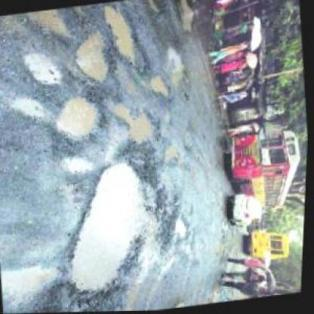Hueco: (60, 157, 162, 297), (98, 0, 153, 78), (1, 260, 68, 306), (111, 100, 163, 151), (56, 95, 107, 144), (72, 30, 115, 86), (18, 49, 68, 92), (26, 8, 74, 44), (8, 92, 54, 125), (163, 44, 192, 89), (61, 153, 98, 178), (147, 72, 175, 100), (164, 144, 190, 170), (175, 214, 191, 240)
